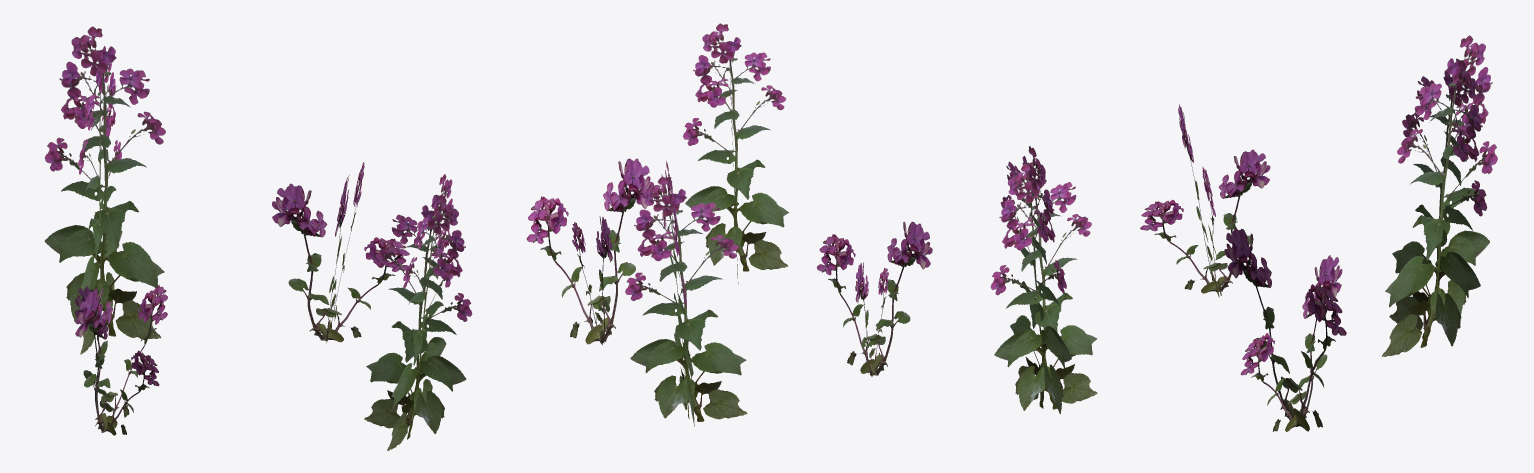
Rendered from ForestFlower1-3.fbx.
The picture shows the model from 3 angles, left to right: view 1: azimuth 30°, elevation 25°; view 2: azimuth 150°, elevation 25°; view 3: azimuth 270°, elevation 25°; orthographic projection. The views are drawn at different scales.
Parts seen in each view (by area): view 1: ForestFlower1-3; view 2: ForestFlower1-3; view 3: ForestFlower1-3.
Part boxes in pixels (<box>): ForestFlower1-3: <box>44,26,472,450</box>; ForestFlower1-3: <box>519,23,932,426</box>; ForestFlower1-3: <box>990,35,1497,431</box>.
Size of the model in its own units: 105 by 77.9 by 122.
